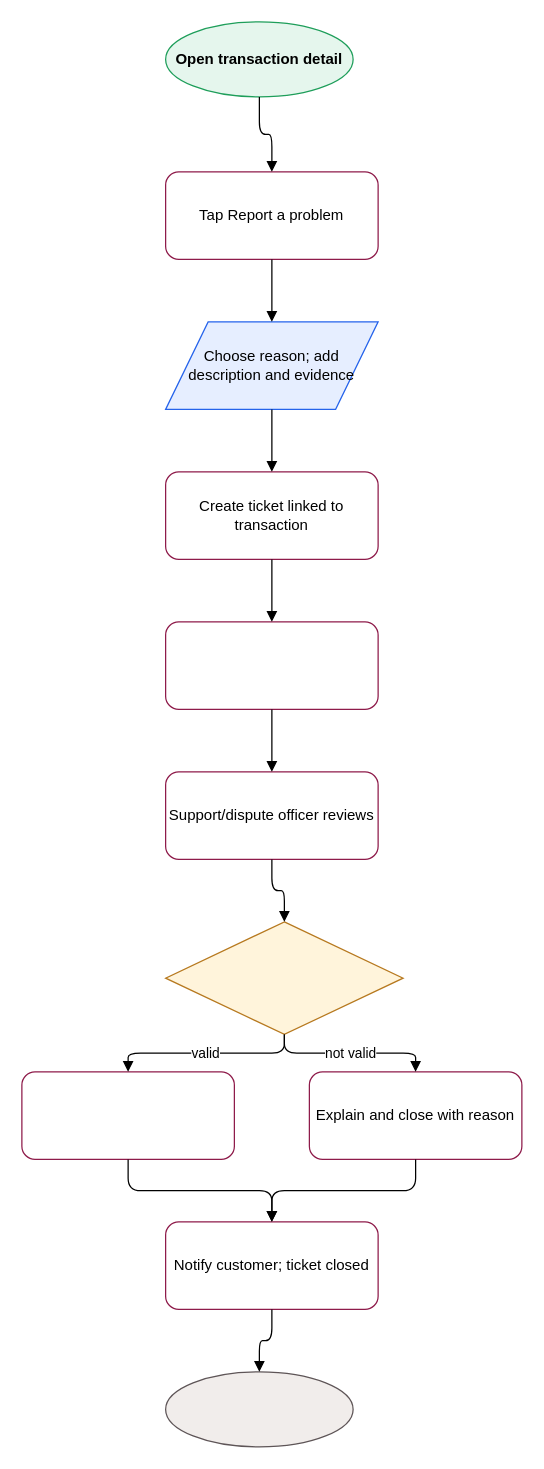
This 544x1469 diagram has some shape labels left out. The centre of each missing label's shape, as x and y in pixels:
"Done" goes at (258,1409).
"Refund or reversal (dual control)" goes at (127,1115).
"Resolution" goes at (283,977).
"Show ticket number and response time" goes at (271,665).
